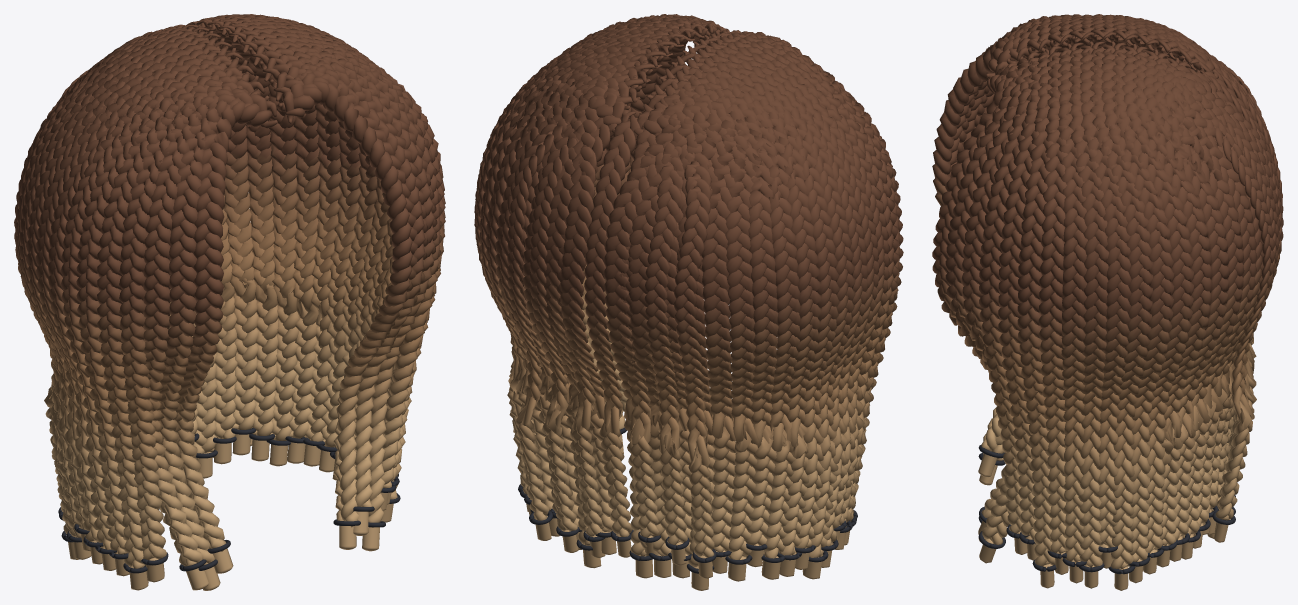
File: Ombre-98ba5dd4d0c0253-hair.glb
The picture shows the model from 3 angles, left to right: view 1: azimuth 30°, elevation 25°; view 2: azimuth 150°, elevation 25°; view 3: azimuth 270°, elevation 25°; orthographic projection. The views are drawn at different scales.
Parts seen in each view (by area): view 1: 226 hair / Hair / chestnut226.001, 226 hair / Hair / ties226.001; view 2: 226 hair / Hair / chestnut226.001, 226 hair / Hair / ties226.001; view 3: 226 hair / Hair / chestnut226.001, 226 hair / Hair / ties226.001.
Boxes of the visible parts, x1,y1,x2,y2 form: 226 hair / Hair / chestnut226.001: [14, 14, 445, 590]; 226 hair / Hair / ties226.001: [58, 428, 400, 573]; 226 hair / Hair / chestnut226.001: [474, 14, 903, 590]; 226 hair / Hair / ties226.001: [518, 428, 857, 573]; 226 hair / Hair / chestnut226.001: [932, 14, 1283, 590]; 226 hair / Hair / ties226.001: [978, 445, 1235, 574].
Bounding box in the file's own units: 1.03 × 1.3 × 0.8491.
2 materials, 1 textured.
